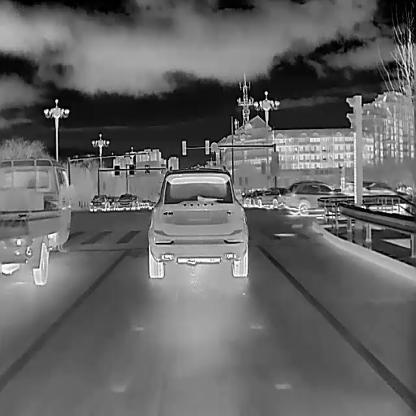car: (147, 165, 249, 279), (0, 158, 72, 285), (285, 180, 349, 216), (360, 181, 409, 203), (257, 186, 285, 207), (89, 193, 109, 212), (115, 193, 134, 211), (251, 190, 264, 207)
